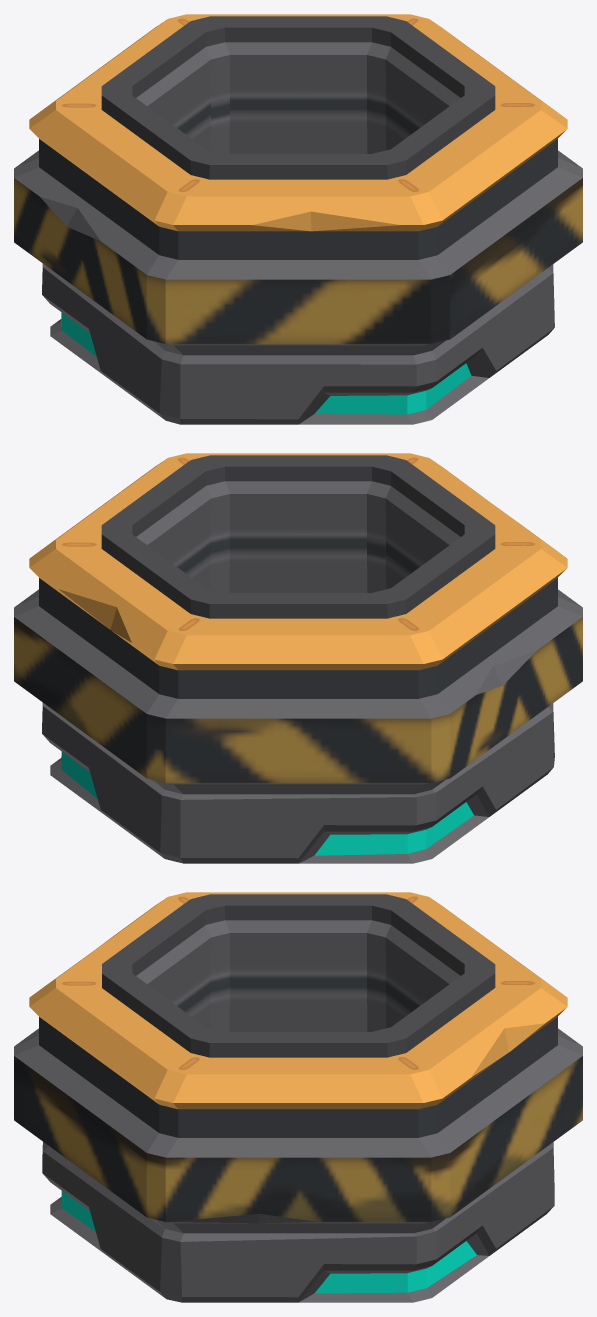
The model's file is SM_Prop_Power_Terminal_03_Base_01.fbx.
3 views of the same model, one above another, from view 1: azimuth 30°, elevation 25°; view 2: azimuth 150°, elevation 25°; view 3: azimuth 270°, elevation 25° (orthographic).
Visible parts, largest first — view 1: SM_Prop_Power_Terminal_03_Base_01; view 2: SM_Prop_Power_Terminal_03_Base_01; view 3: SM_Prop_Power_Terminal_03_Base_01.
Boxes of the visible parts, x1,y1,x2,y2 form: SM_Prop_Power_Terminal_03_Base_01: (14, 14, 582, 424); SM_Prop_Power_Terminal_03_Base_01: (14, 453, 582, 863); SM_Prop_Power_Terminal_03_Base_01: (14, 892, 582, 1302).
Bounding box in the file's own units: 185 × 97.8 × 209.
